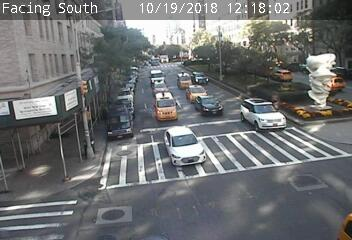car: (163, 126, 207, 163), (241, 98, 288, 130), (154, 92, 178, 120), (194, 96, 225, 115), (188, 85, 207, 100), (191, 71, 210, 85), (177, 72, 192, 88)
